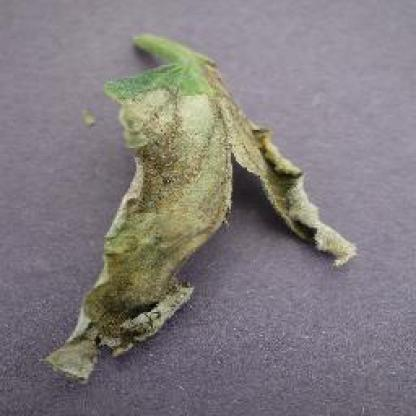bad leaf: (40, 28, 343, 386), (95, 71, 235, 291), (228, 89, 363, 266)
